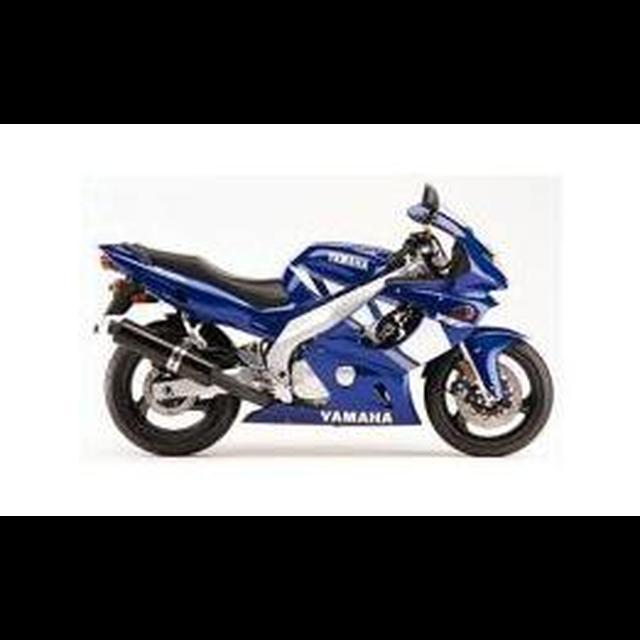motorcycle: (87, 175, 558, 462)
